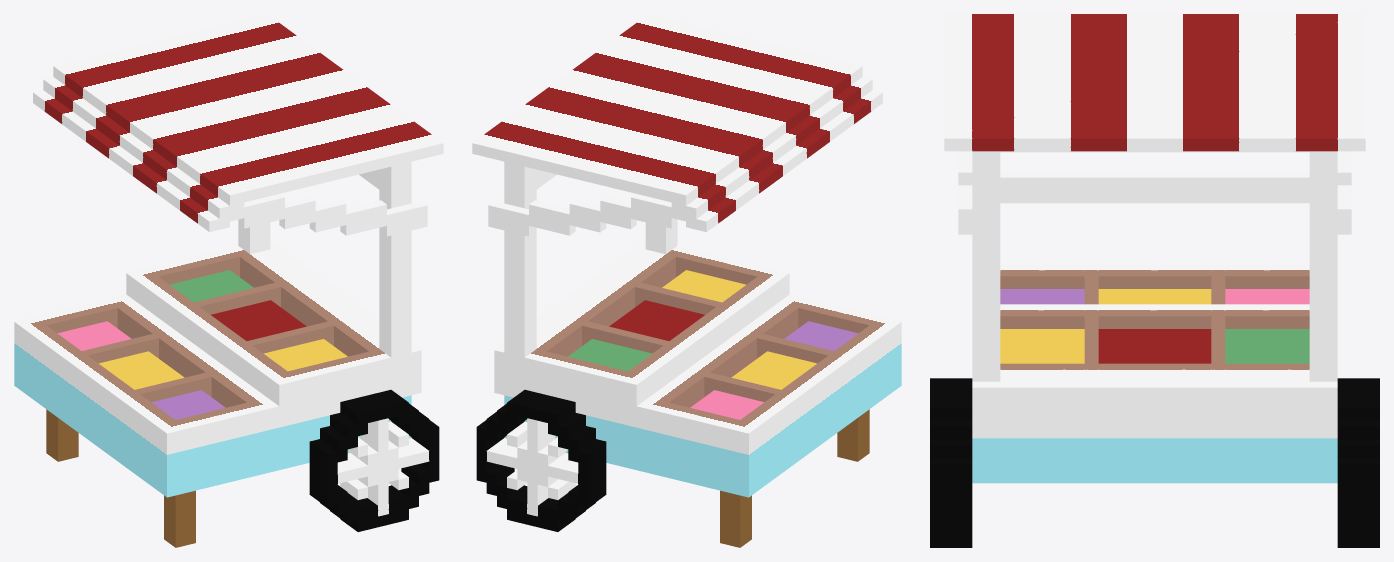
3 views of the same model, side by side, from view 1: azimuth 30°, elevation 25°; view 2: azimuth 150°, elevation 25°; view 3: azimuth 270°, elevation 25° (orthographic). The views are drawn at different scales.
Parts seen in each view (by area): view 1: Object; view 2: Object; view 3: Object.
Boxes of the visible parts, box(x1,y1,x2,y2) form: Object: box(14, 14, 443, 547); Object: box(472, 14, 901, 547); Object: box(930, 14, 1379, 547).
Size of the model in its own units: 26 by 34 by 32.
Materials: 1 (1 with a texture image).
